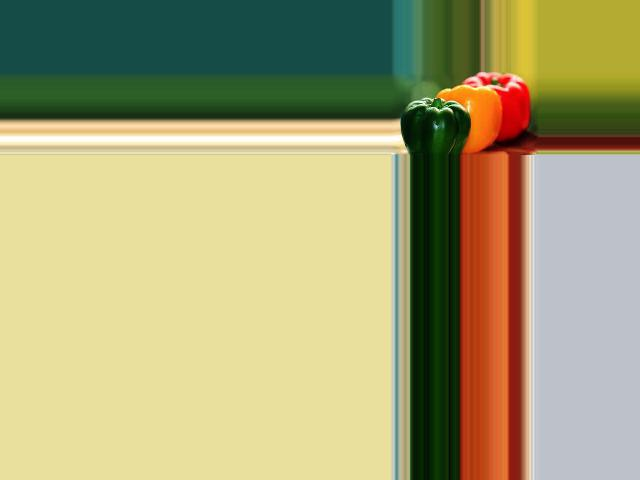bell_pepper: (462, 72, 529, 151)
